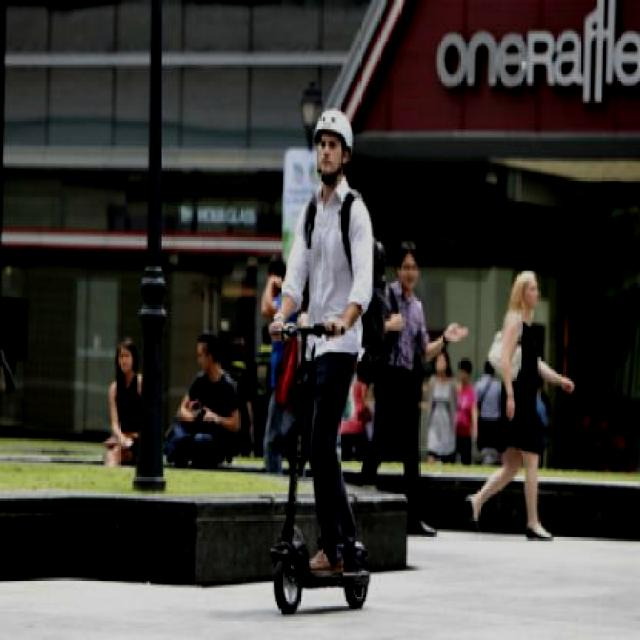With Helmet: (309, 106, 362, 197)
